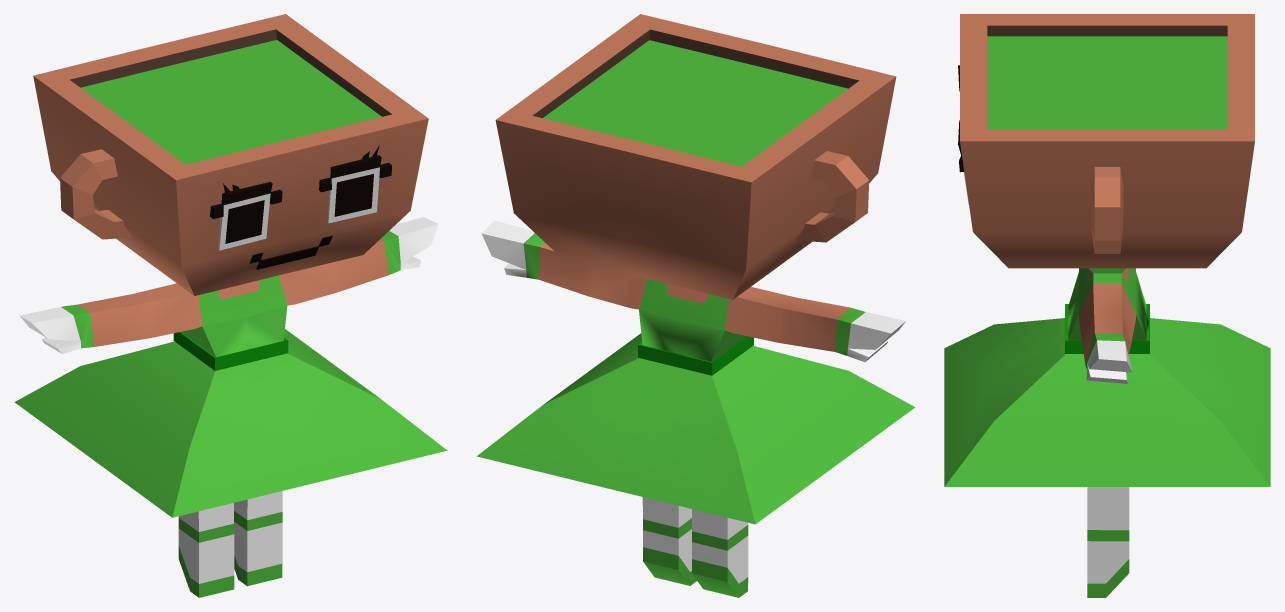
File: Ballerina_Cappuccina.fbx
3 renders of one model, left to right at view 1: azimuth 30°, elevation 25°; view 2: azimuth 150°, elevation 25°; view 3: azimuth 270°, elevation 25°, orthographic. The views are drawn at different scales.
Parts seen in each view (by area): view 1: Ballerina_Cappuccina_base.004; view 2: Ballerina_Cappuccina_base.004; view 3: Ballerina_Cappuccina_base.004.
Boxes of the visible parts, bbox=[...] form: Ballerina_Cappuccina_base.004: bbox=[14, 14, 447, 597]; Ballerina_Cappuccina_base.004: bbox=[476, 14, 915, 597]; Ballerina_Cappuccina_base.004: bbox=[944, 14, 1270, 597].
Bounding box in the file's own units: 1.23 × 1.4 × 0.8297.
